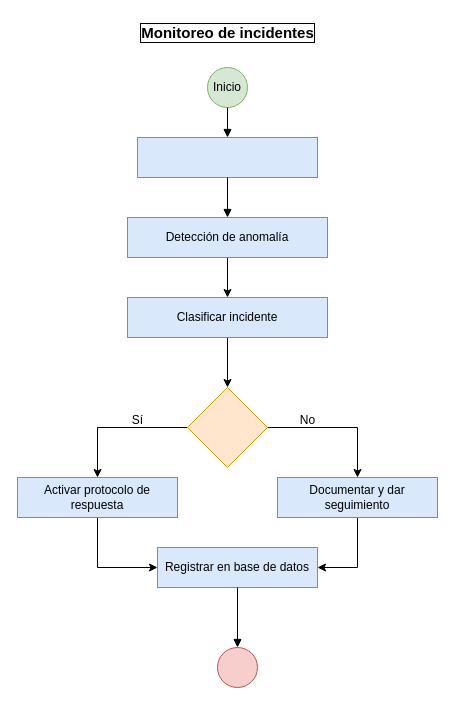
Image size: 455x705. Some labels were removed from this diagram. Each missing label, with the centre of its shape:
"Fin" goes at point 237,667.
"Monitoreo de sistemas 24/7" goes at point 227,157.
"¿Es crítico?" goes at point 227,427.
